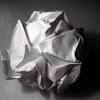crumpled paper: (2, 5, 85, 95)
